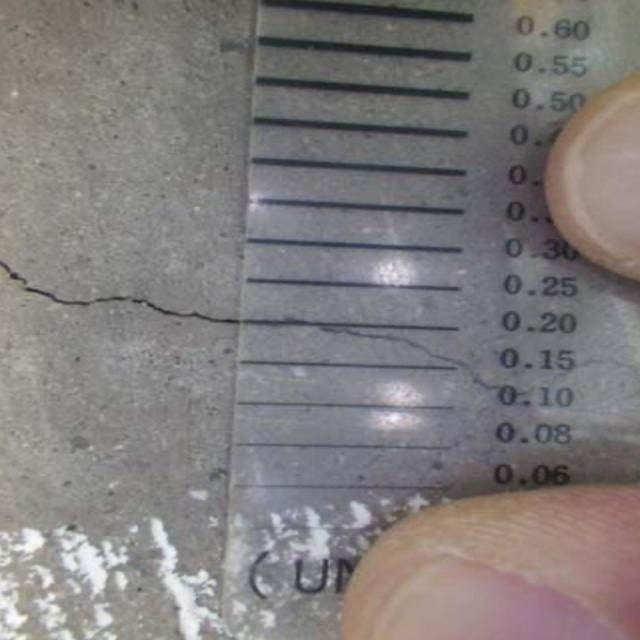crack: (3, 246, 491, 398)
